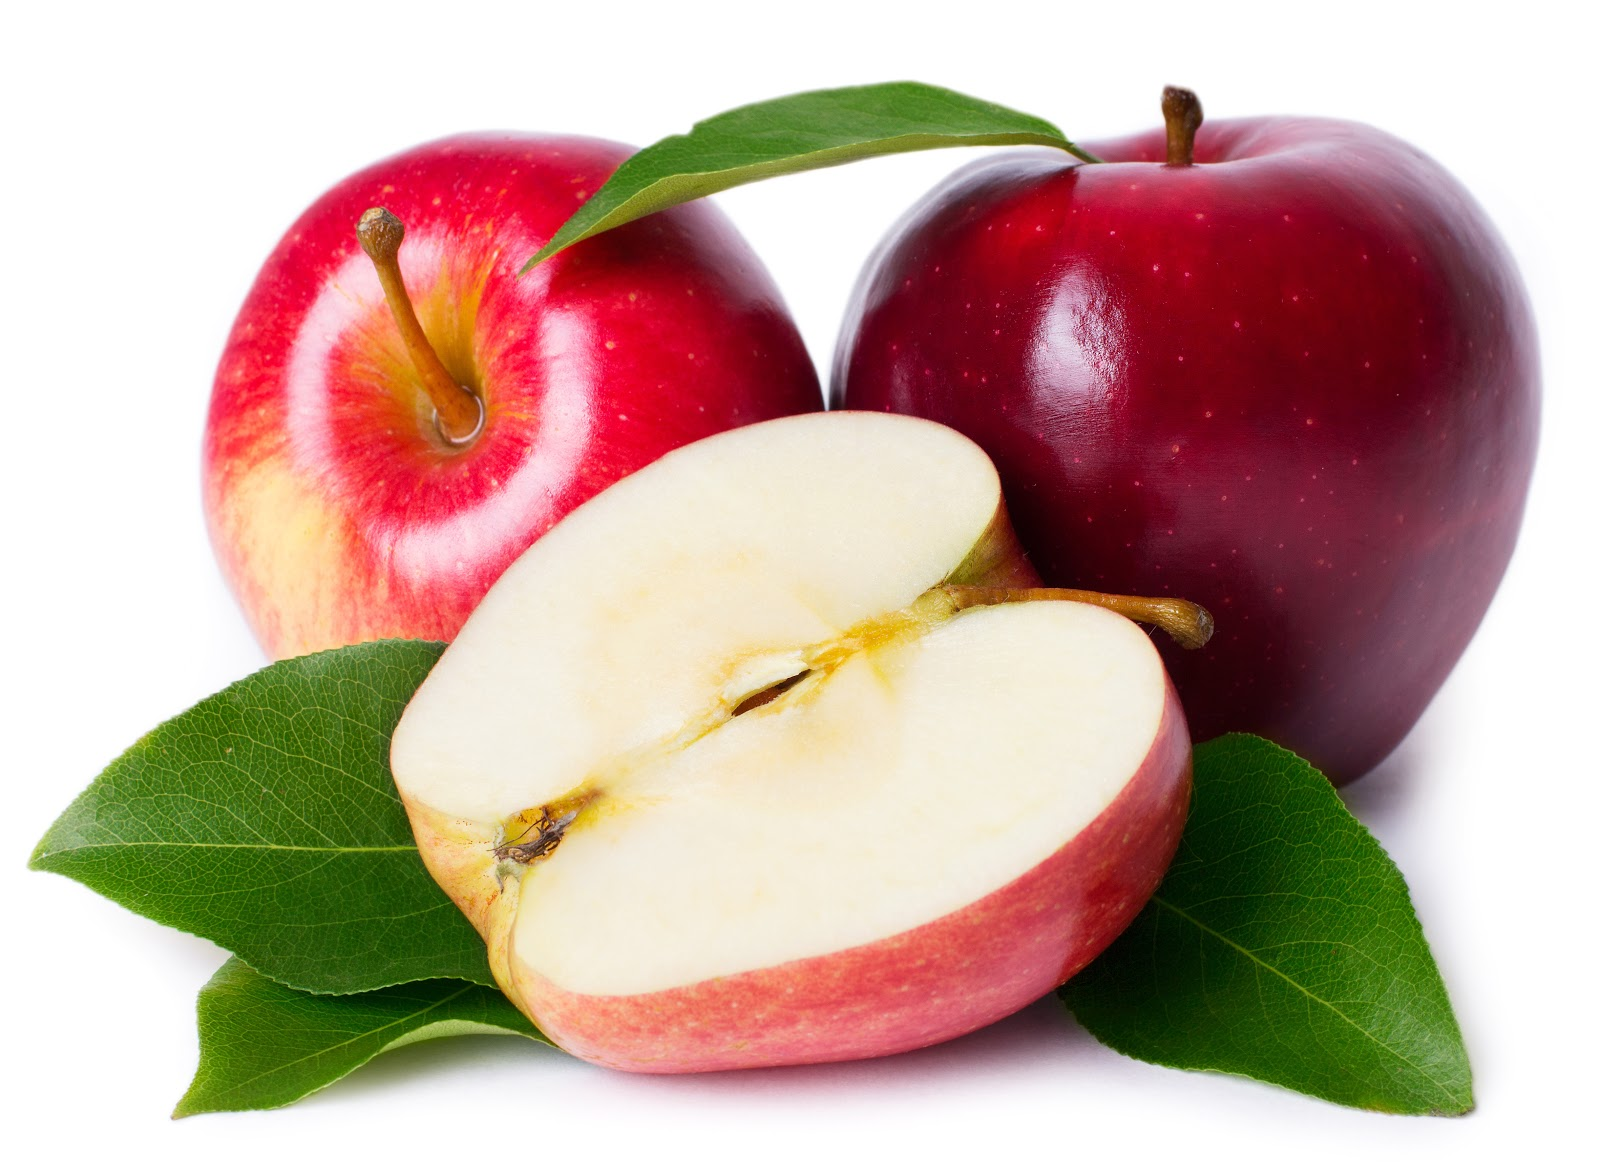apple: (826, 113, 1553, 838), (191, 125, 832, 761)
